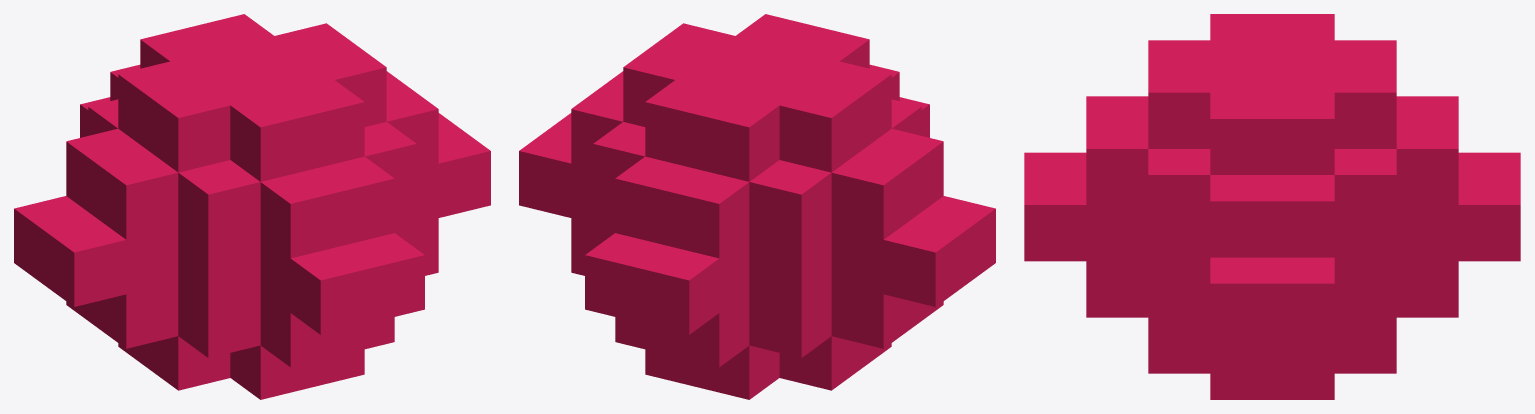
Rendered from turret1Top.obj.
3 views of the same model, side by side, from view 1: azimuth 30°, elevation 25°; view 2: azimuth 150°, elevation 25°; view 3: azimuth 270°, elevation 25° (orthographic). The views are drawn at different scales.
Size of the model in its own units: 8 by 5 by 8.
1 material, 1 textured.
